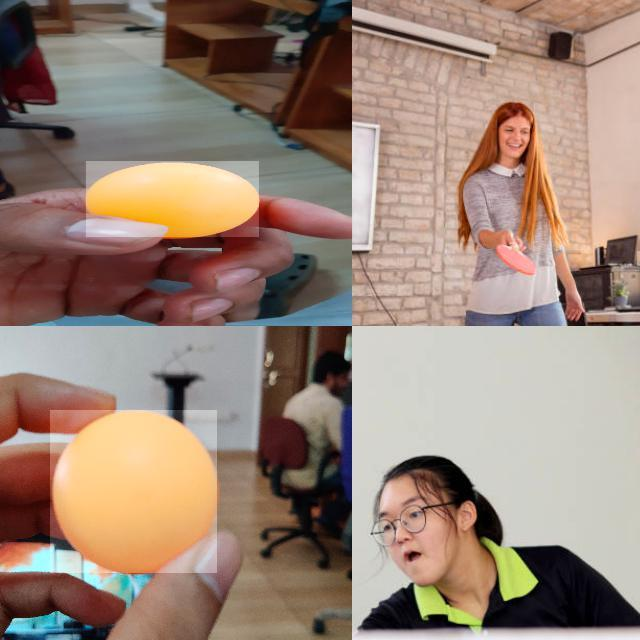ping-pong-ball: (50, 410, 218, 574), (86, 161, 260, 237)
